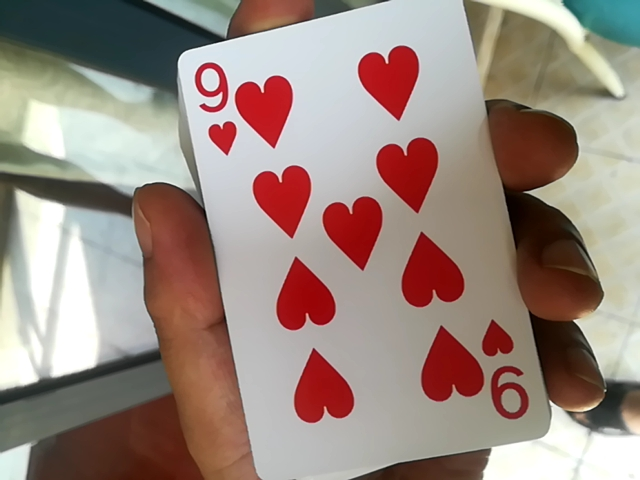hx 9: (182, 5, 568, 477)
